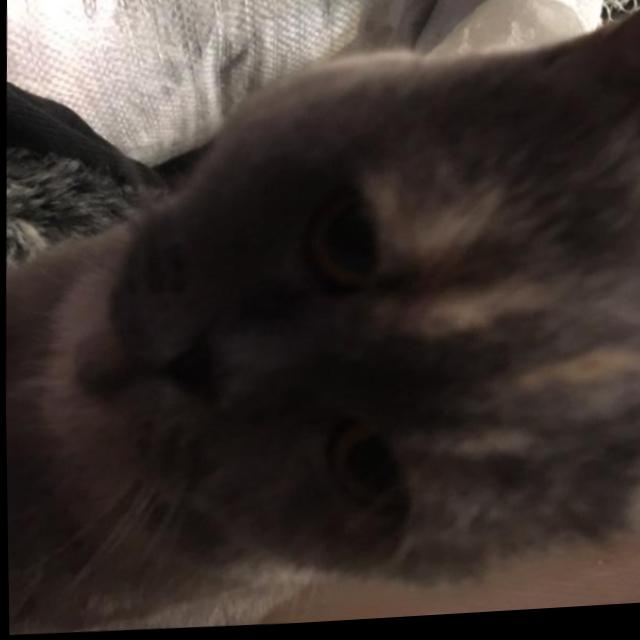Cats: (1, 15, 640, 640)
